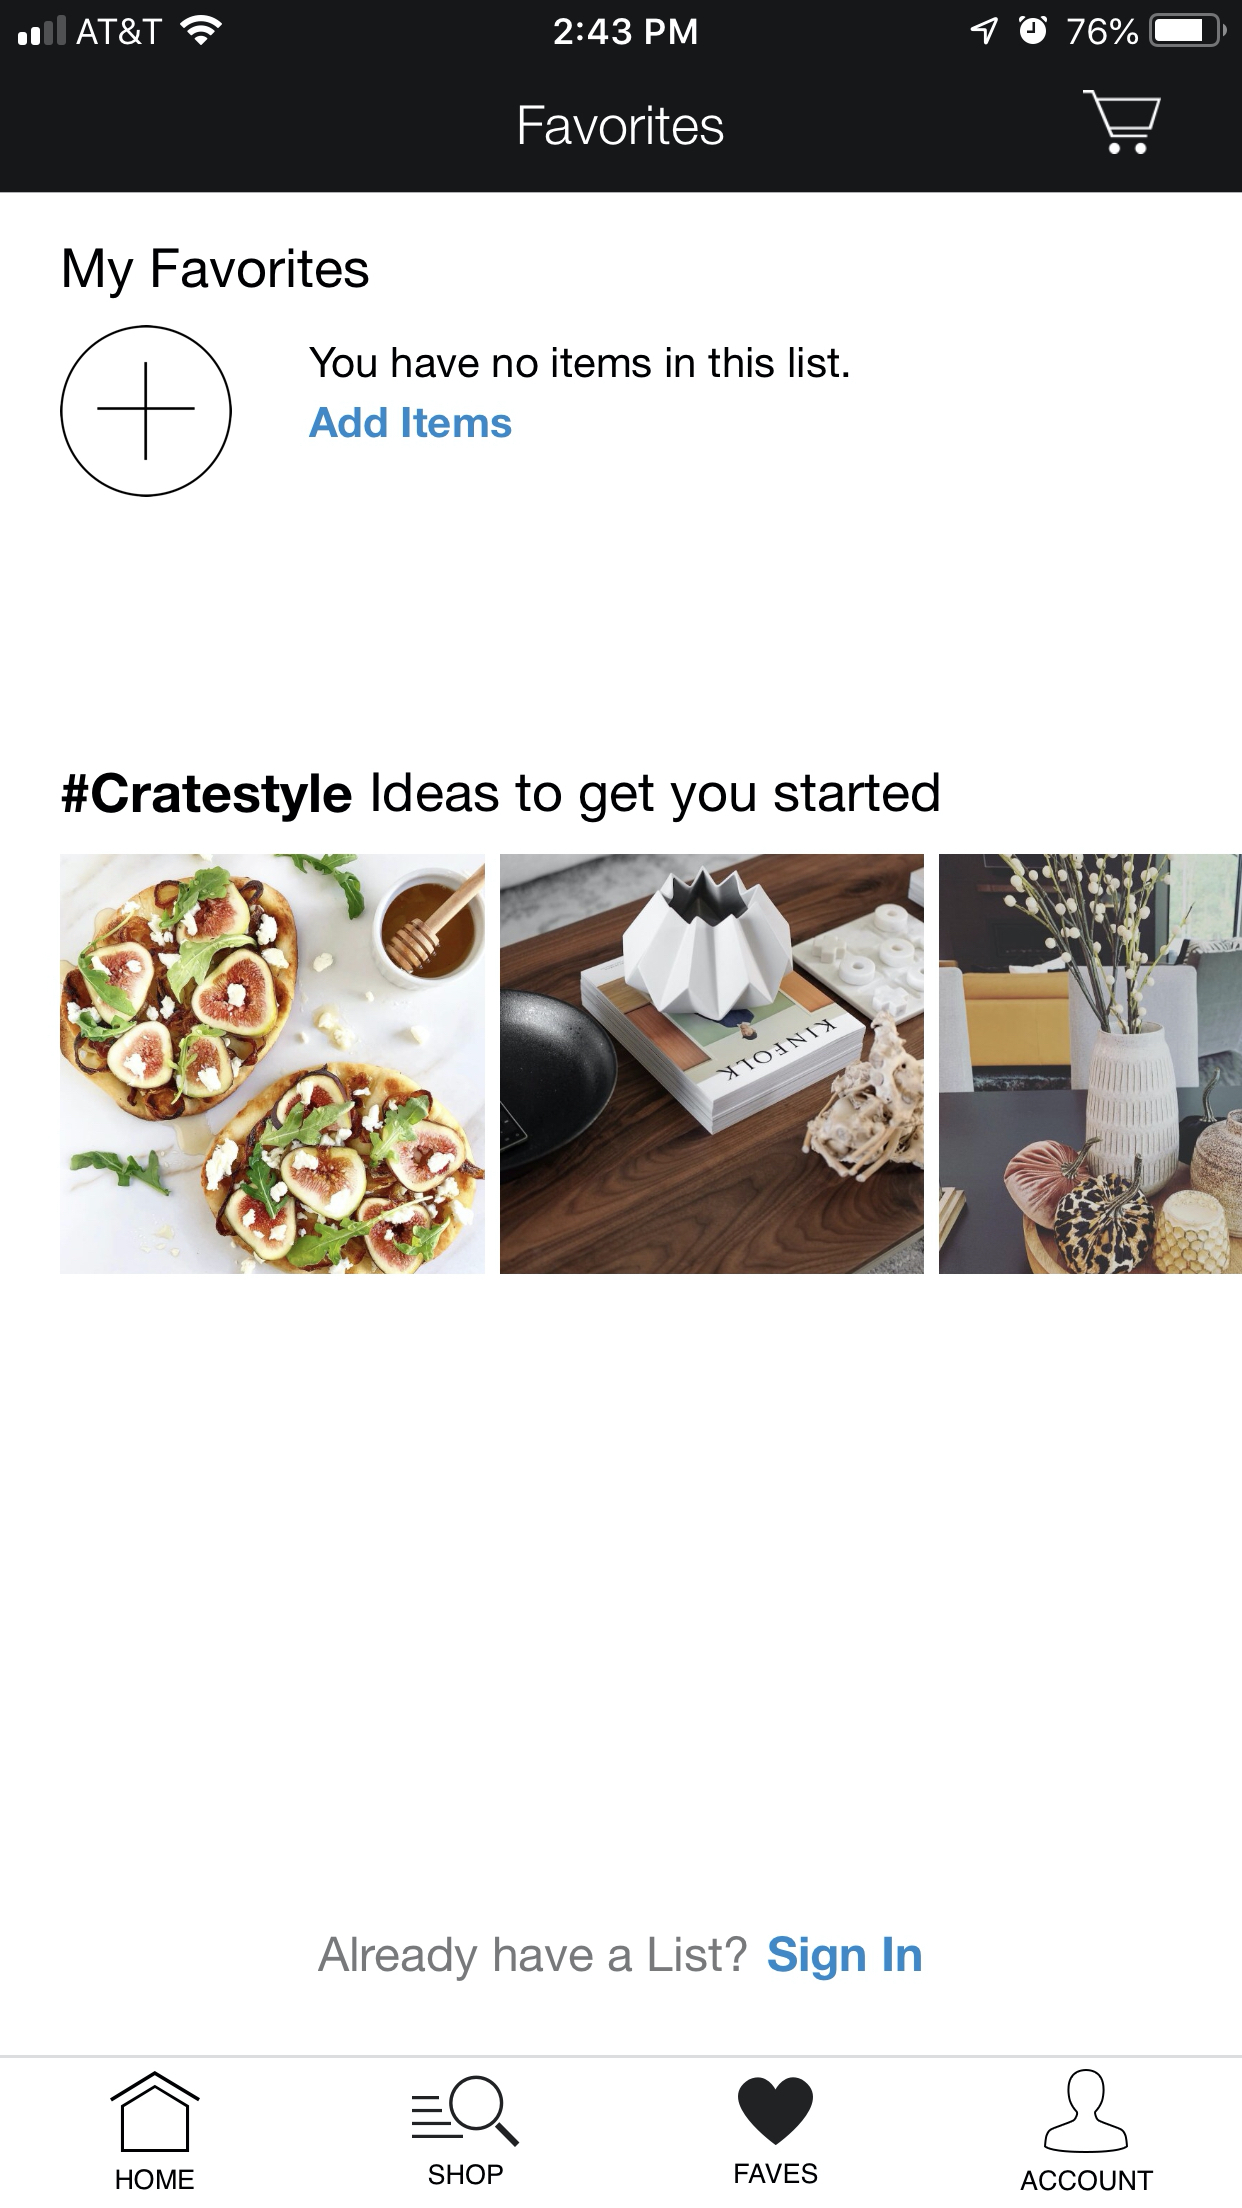Icon: (61, 325, 234, 499), (412, 2075, 522, 2147), (111, 2070, 202, 2153), (1043, 2068, 1128, 2153), (1081, 89, 1162, 156), (737, 2078, 814, 2146)
Image: (61, 854, 485, 1275), (500, 854, 925, 1275), (939, 854, 1242, 1275)
Text: (61, 772, 940, 823), (318, 1934, 922, 1982), (309, 347, 851, 381), (64, 249, 370, 300), (519, 105, 725, 147), (309, 406, 513, 440), (1021, 2169, 1154, 2191), (115, 2169, 196, 2191), (735, 2163, 817, 2184), (428, 2163, 503, 2185)
UpperTaskBar: (2, 2, 1242, 49)
